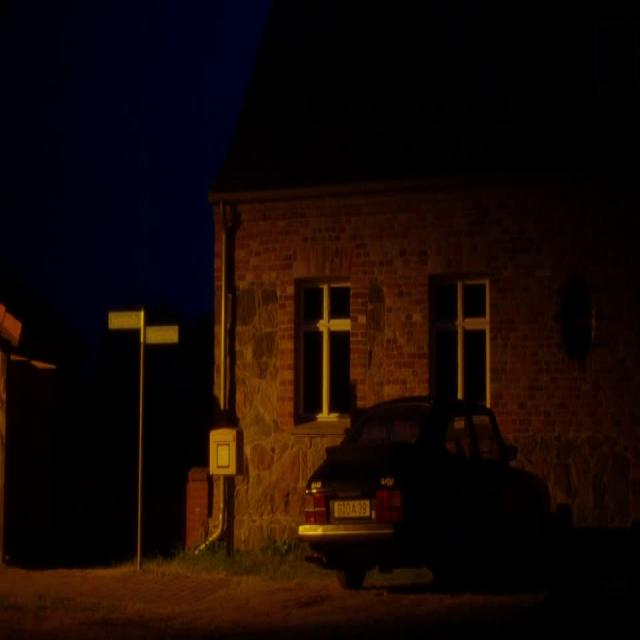Car: (296, 405, 556, 599)
